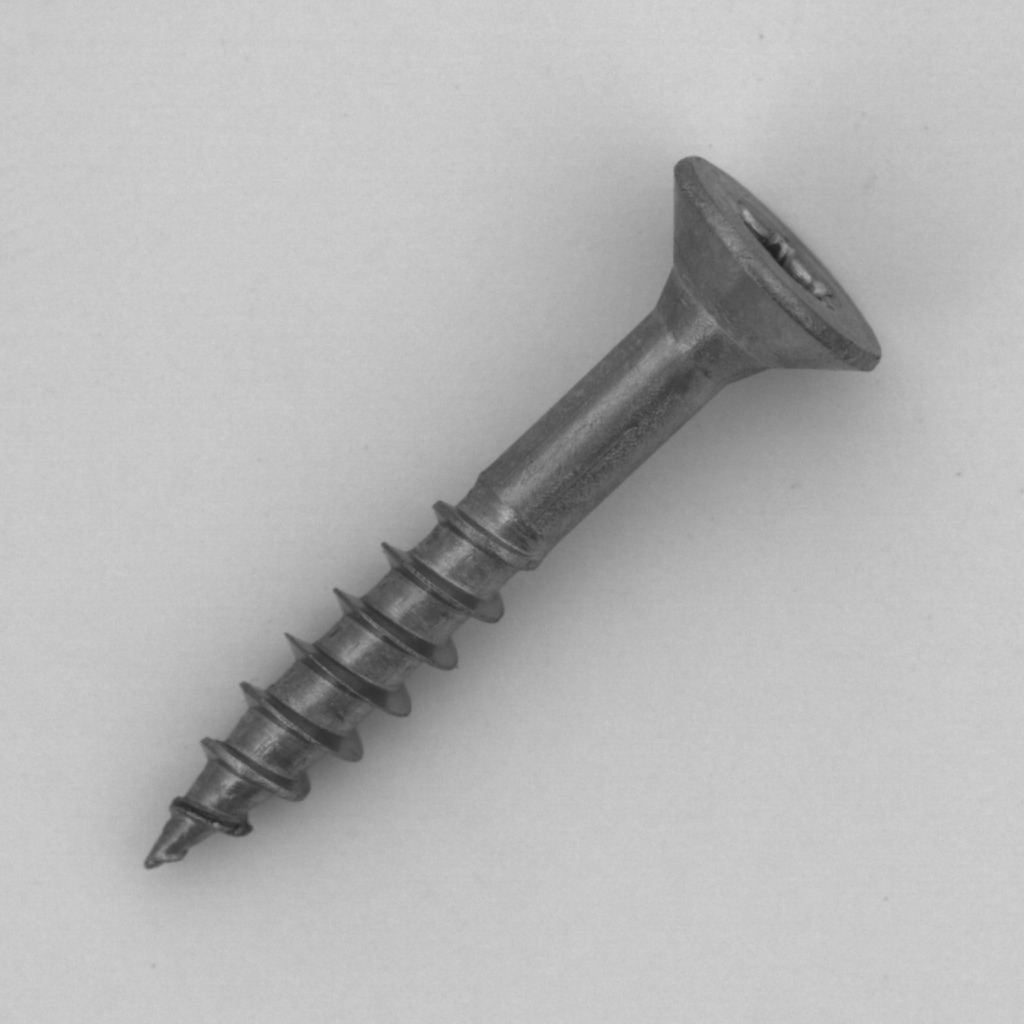good: (124, 134, 909, 890)
